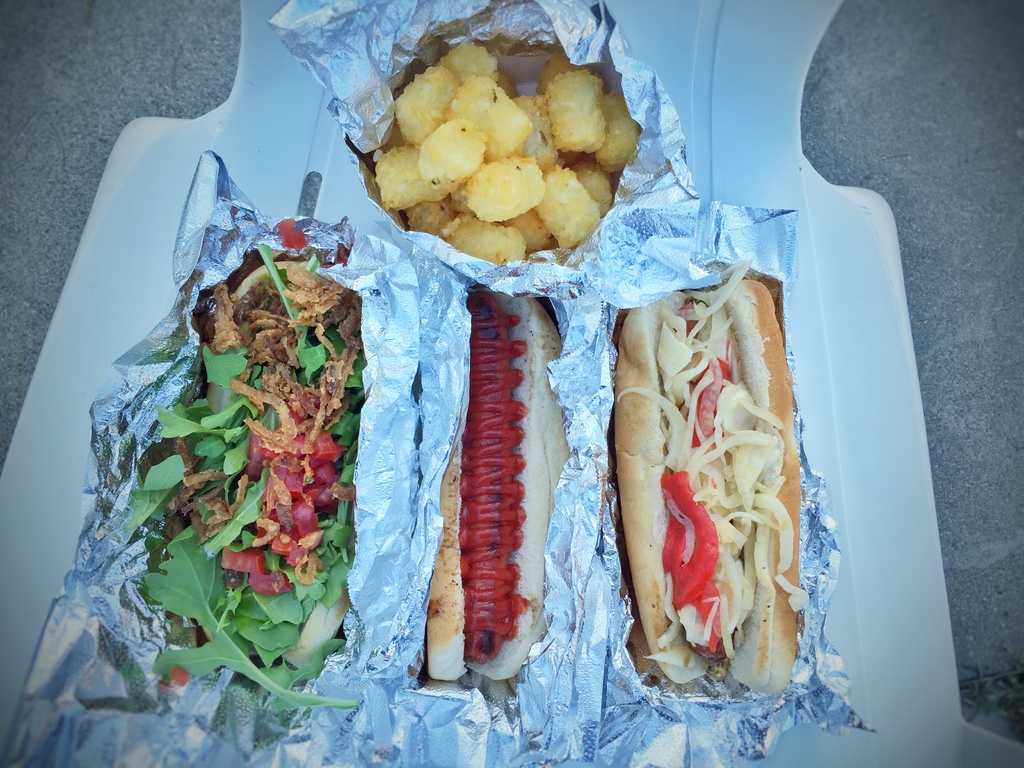hot_dog: (601, 248, 817, 704), (428, 283, 556, 689)
